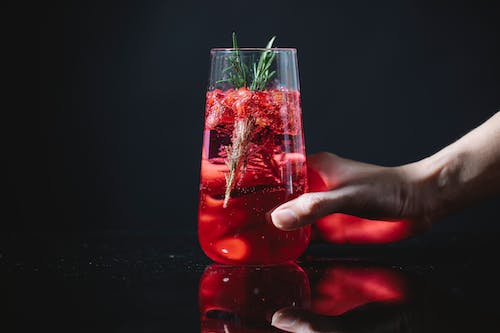alcohol: (197, 46, 312, 267)
